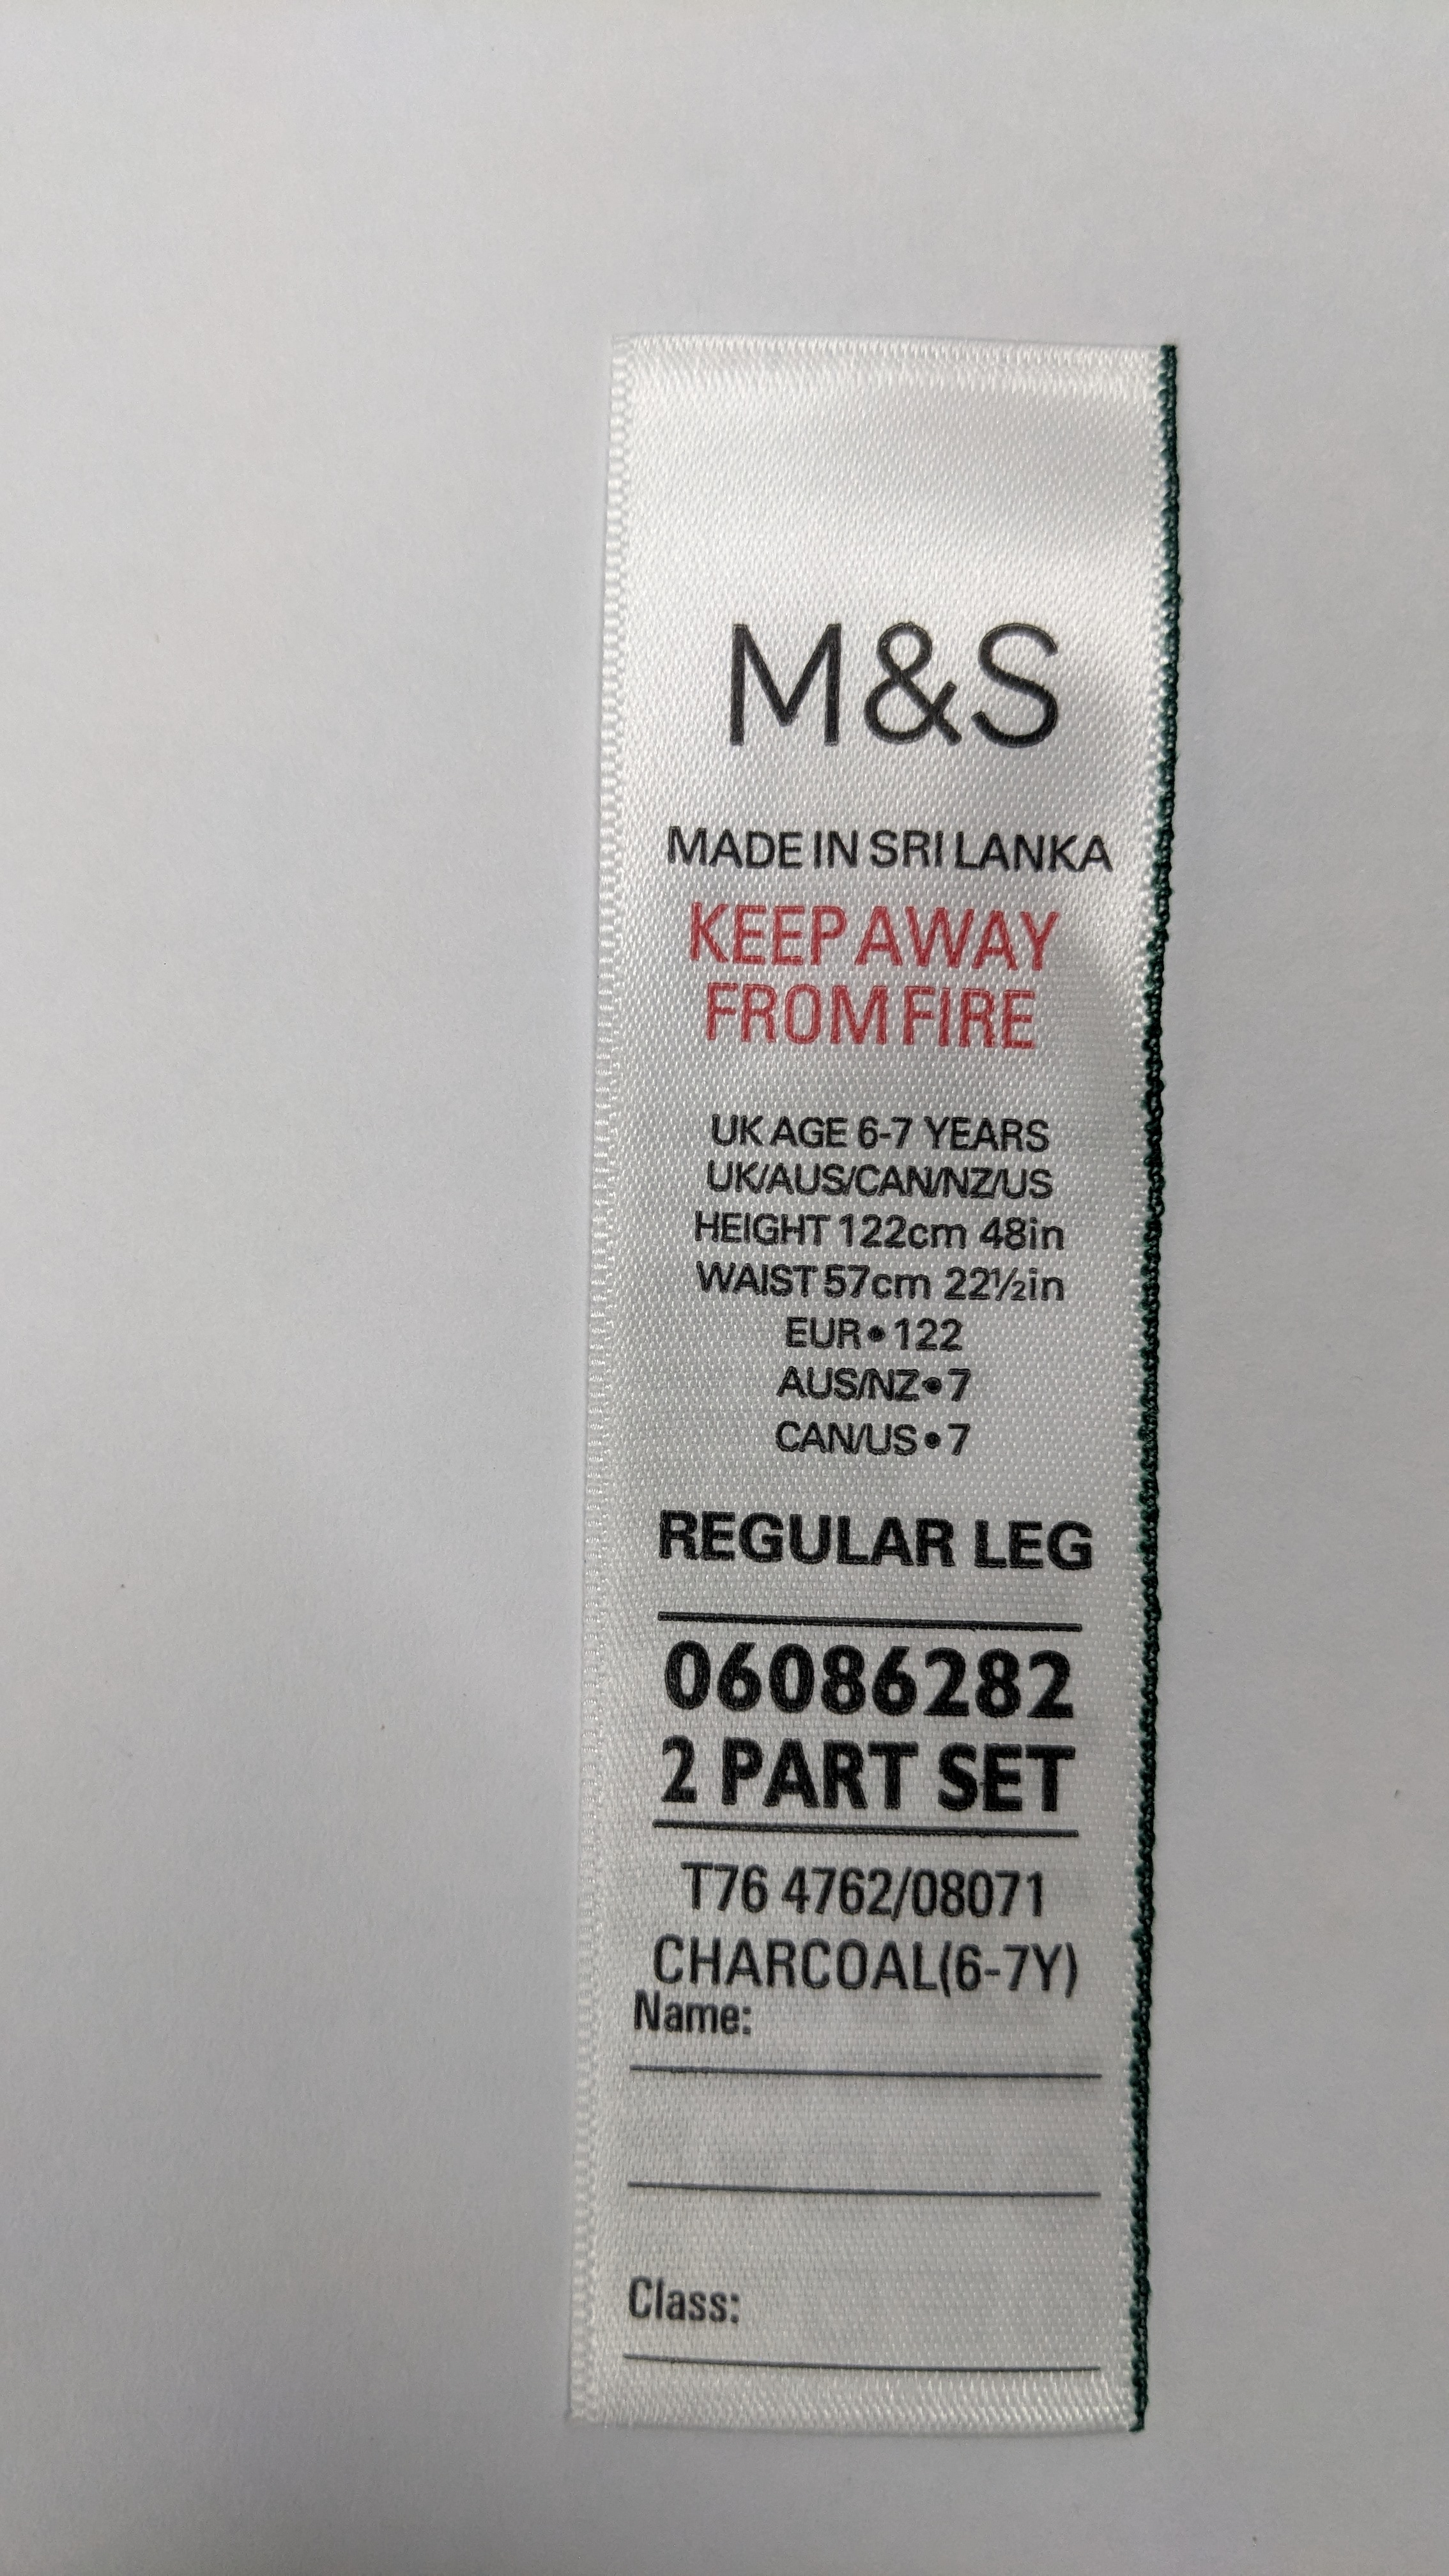Good_label: (589, 295, 1177, 2459)
